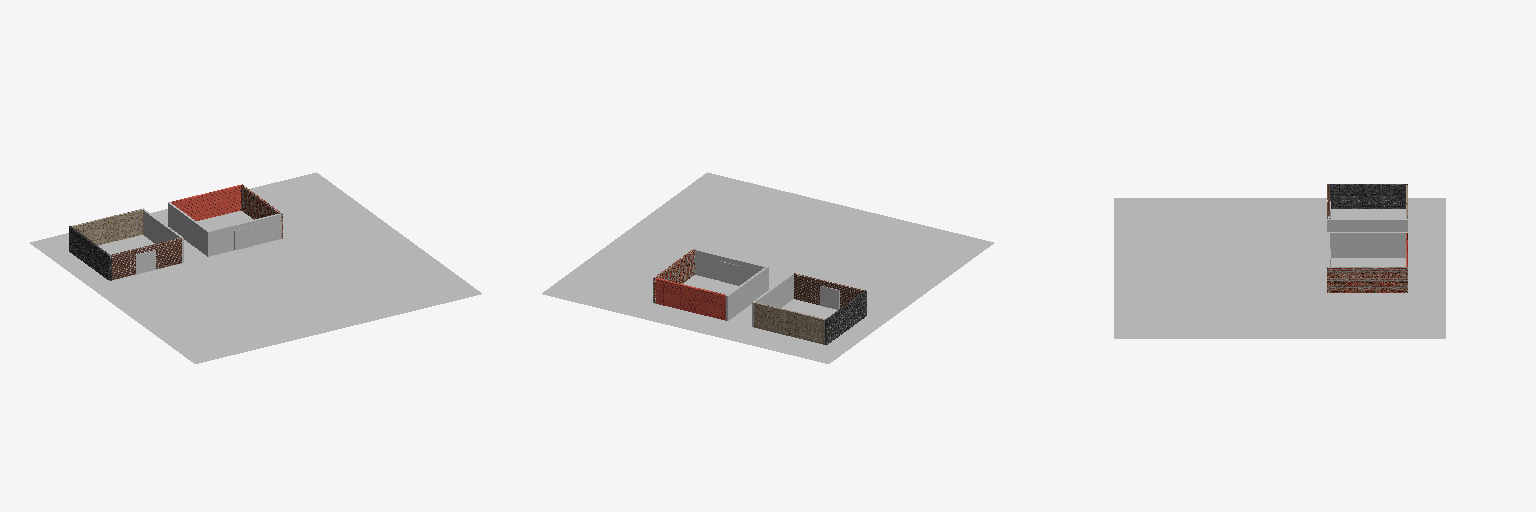
The picture shows the model from 3 angles: view 1: azimuth 30°, elevation 25°; view 2: azimuth 150°, elevation 25°; view 3: azimuth 270°, elevation 25°; orthographic projection.
Parts seen in each view (by area): view 1: Plane, Cube.001_Cube.002, Cube.008_Cube.009, Cube.006_Cube.007, Cube.003_Cube.004, Cube_Cube.001, Cube.009_Cube.010, Cube.007_Cube.008, Cube.002_Cube.003, Plane.002, Plane.001; view 2: Plane, Cube.001_Cube.002, Cube.008_Cube.009, Cube.009_Cube.010, Cube_Cube.001, Cube.006_Cube.007, Cube.003_Cube.004, Cube.007_Cube.008, Cube.002_Cube.003, Plane.002, Plane.001; view 3: Plane, Cube.007_Cube.008, Cube.009_Cube.010, Cube_Cube.001, Cube.002_Cube.003, Plane.001, Plane.002.
Part boxes in pixels (left/top/right/bottom): Plane: left=30, top=172, right=481, bottom=363; Cube.001_Cube.002: left=72, top=209, right=142, bottom=244; Cube.008_Cube.009: left=171, top=185, right=240, bottom=220; Cube.006_Cube.007: left=210, top=214, right=280, bottom=255; Cube.003_Cube.004: left=111, top=238, right=181, bottom=279; Cube_Cube.001: left=69, top=226, right=111, bottom=280; Cube.009_Cube.010: left=168, top=202, right=209, bottom=256; Cube.007_Cube.008: left=241, top=184, right=282, bottom=238; Cube.002_Cube.003: left=142, top=208, right=183, bottom=262; Plane.002: left=196, top=211, right=279, bottom=255; Plane.001: left=98, top=235, right=177, bottom=276; Plane: left=542, top=172, right=993, bottom=363; Cube.001_Cube.002: left=754, top=302, right=824, bottom=344; Cube.008_Cube.009: left=656, top=278, right=725, bottom=320; Cube.009_Cube.010: left=726, top=266, right=768, bottom=320; Cube_Cube.001: left=825, top=290, right=866, bottom=344; Cube.006_Cube.007: left=695, top=249, right=765, bottom=283; Cube.003_Cube.004: left=794, top=273, right=864, bottom=307; Cube.007_Cube.008: left=653, top=249, right=695, bottom=303; Cube.002_Cube.003: left=752, top=273, right=793, bottom=326; Plane.002: left=683, top=275, right=738, bottom=294; Plane.001: left=782, top=299, right=837, bottom=318; Plane: left=1114, top=198, right=1445, bottom=338; Cube.007_Cube.008: left=1327, top=267, right=1407, bottom=292; Cube.009_Cube.010: left=1327, top=232, right=1407, bottom=257; Cube_Cube.001: left=1327, top=184, right=1407, bottom=208; Cube.002_Cube.003: left=1327, top=219, right=1407, bottom=231; Plane.001: left=1331, top=209, right=1405, bottom=218; Plane.002: left=1331, top=258, right=1405, bottom=266.
Size of the model in its own units: 105 by 8.62 by 105.
13 materials, 5 textured.